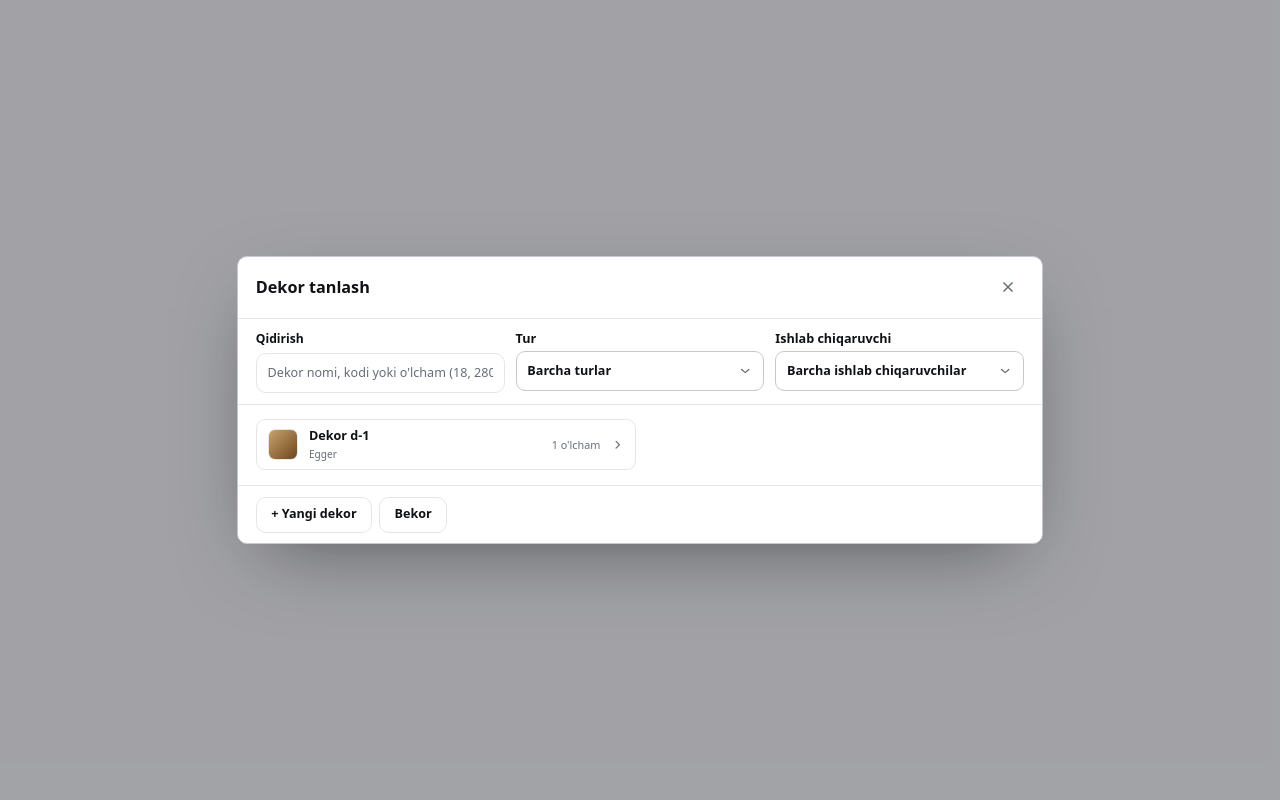
Test: BranchMaterialAttachSheet — «+ Boshqa o‘lcham», merged in silence › creates a genuinely new o‘lcham and arrives with it ticked
Click the button "Dekor d-1 Egger 1 o'lcham". click: (283, 445)
box: [256, 419, 636, 470]
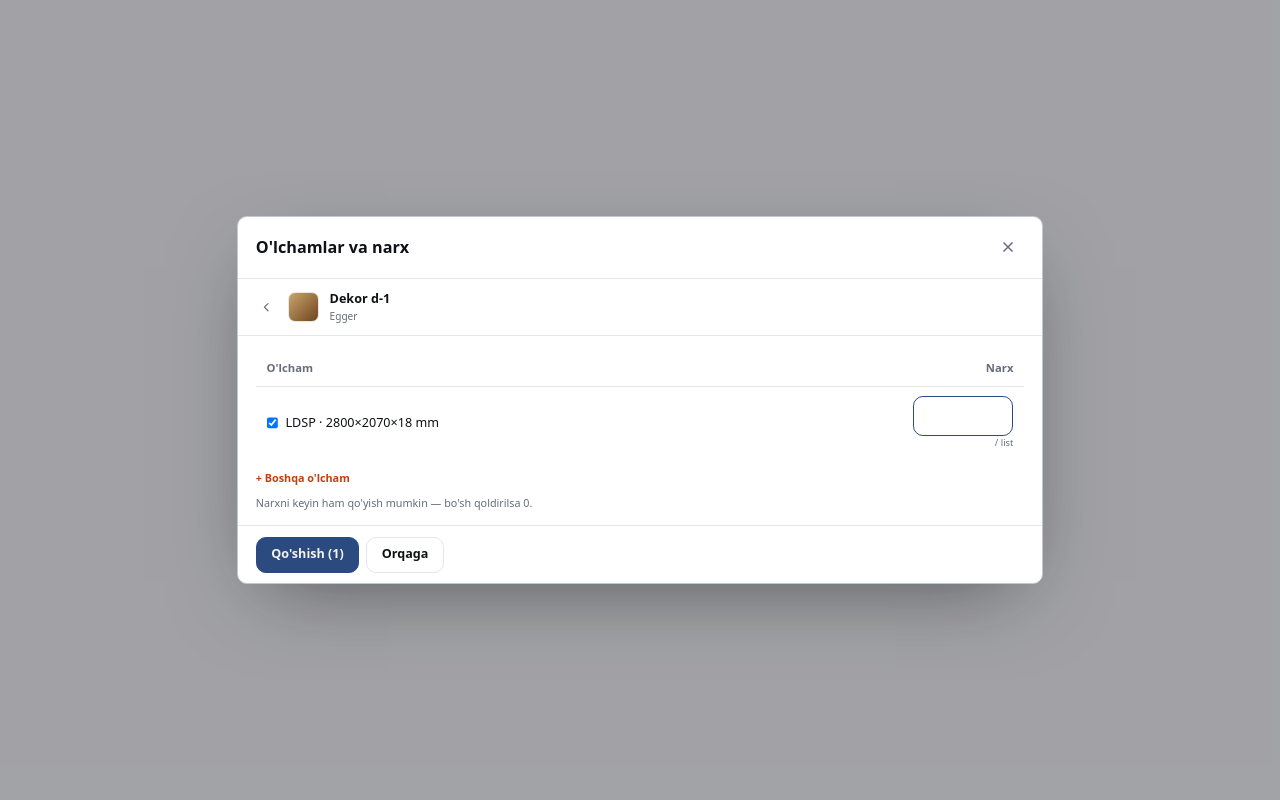
Click the button "+ Boshqa o'lcham". click: (303, 478)
box: [256, 471, 350, 485]
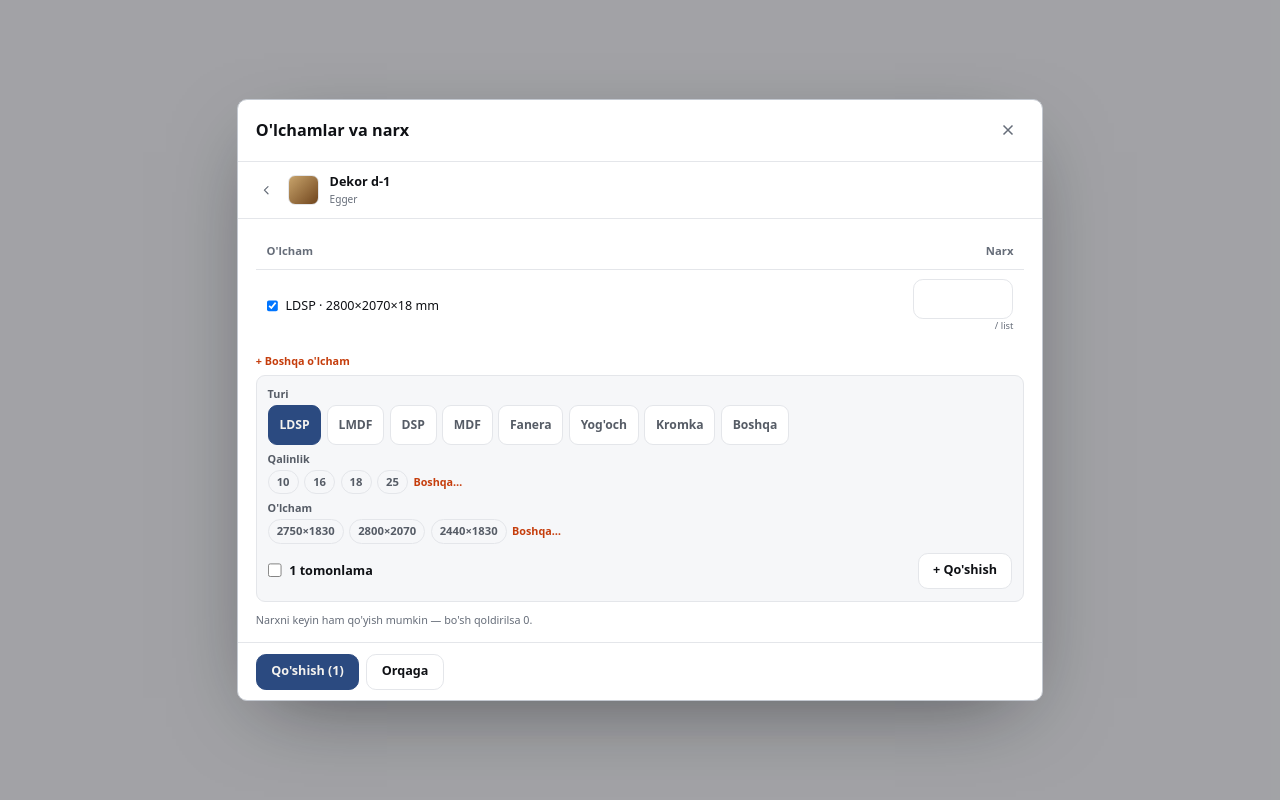
Click the button with class "mp-chip" showing "16". click: (320, 482)
box: [304, 470, 335, 494]
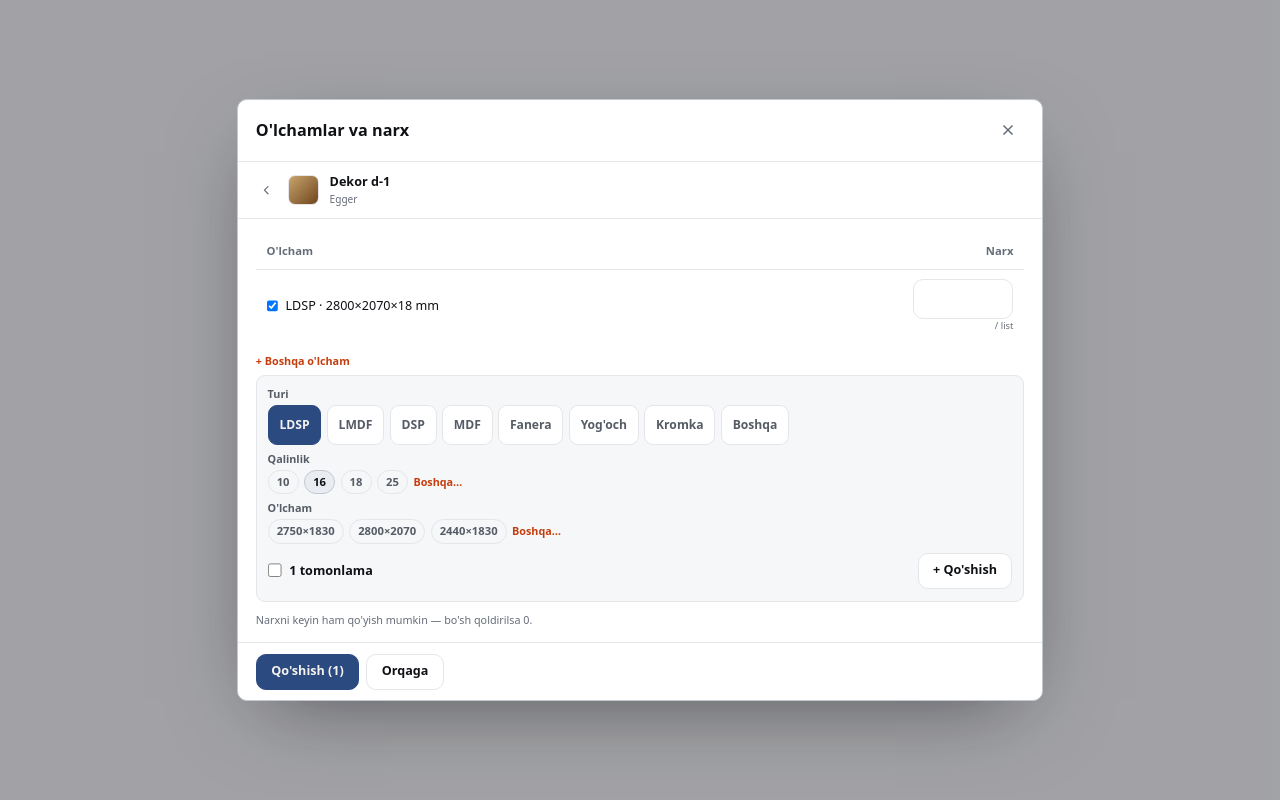
Click the button with class "mp-chip" showing "2750×1830". click: (306, 531)
box: [268, 519, 344, 544]
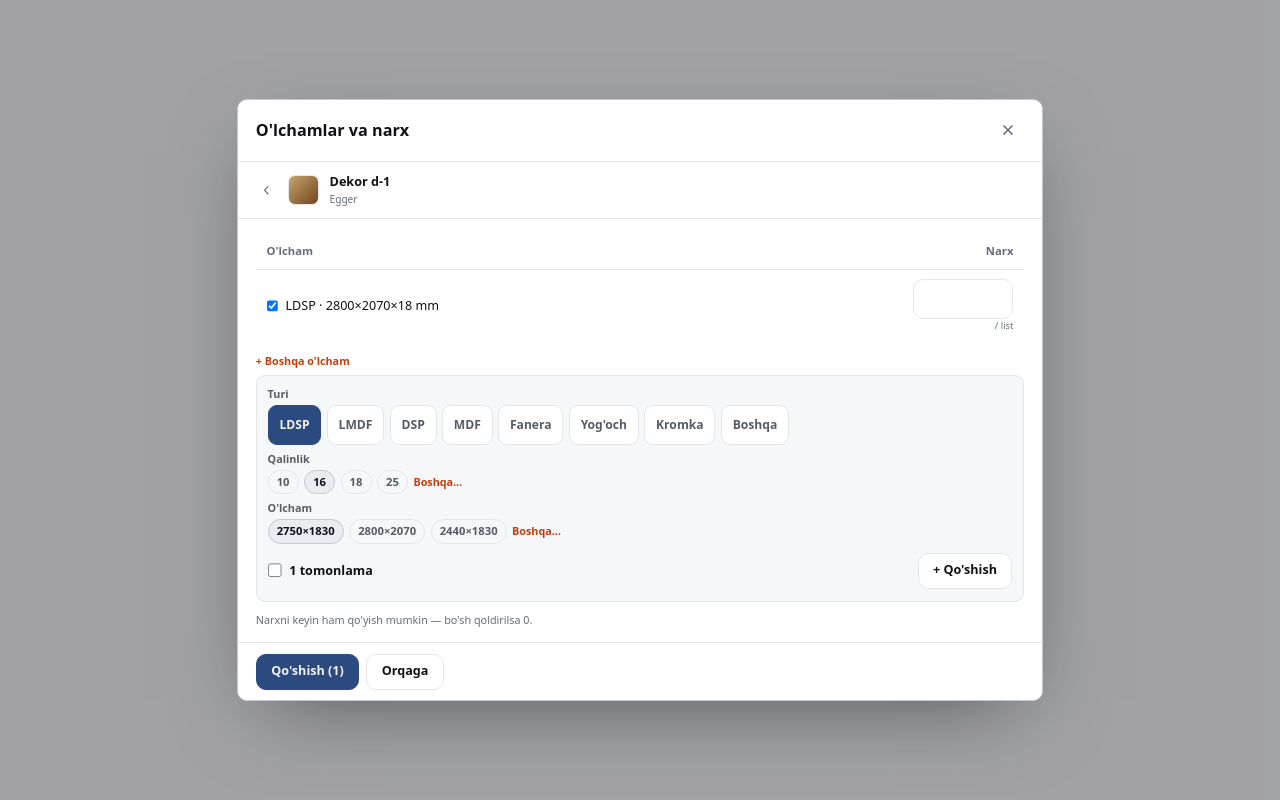
Click the button "+ Qo'shish". click: (965, 571)
box: [918, 553, 1012, 589]
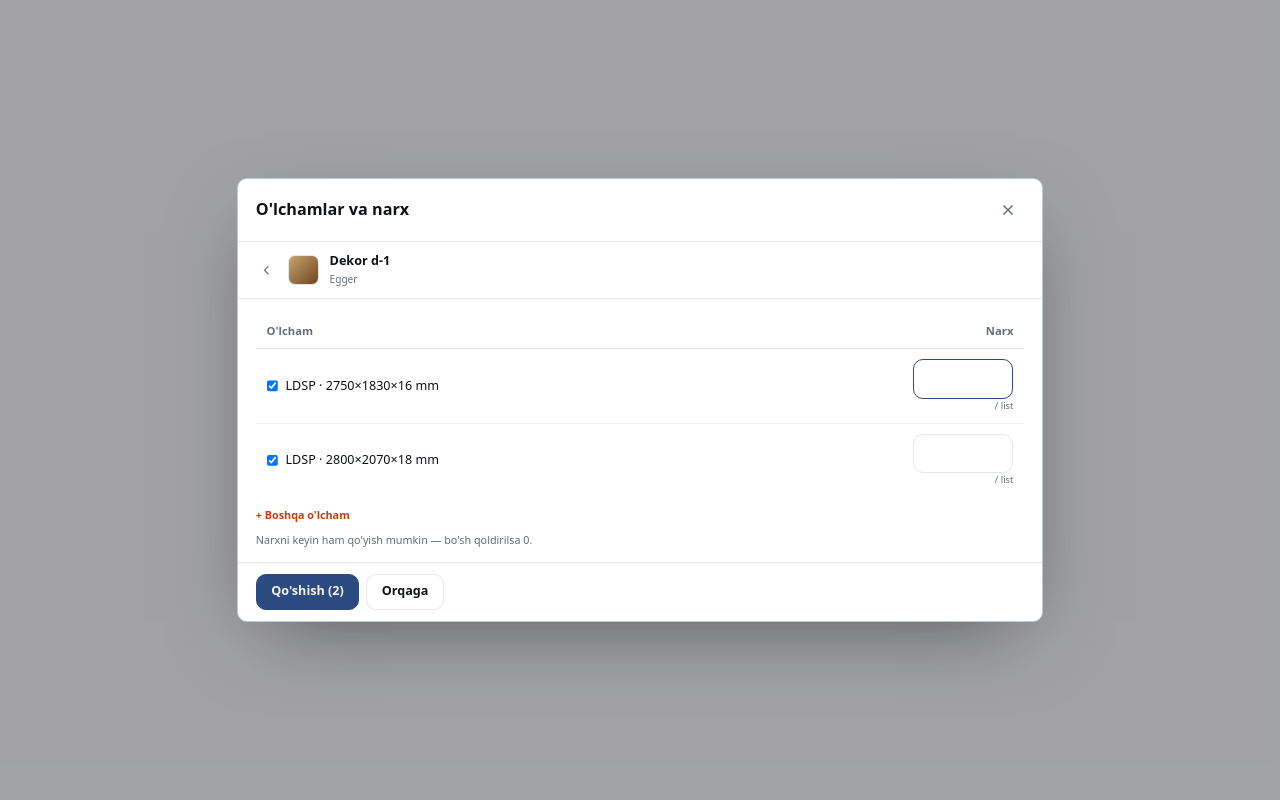
Expected: the checkbox labelled "LDSP · 2750×1830×16 mm" is checked, [267, 380, 278, 392]
Expected: the number of checkboxes is 2, [267, 380, 278, 392]; [267, 455, 278, 466]
